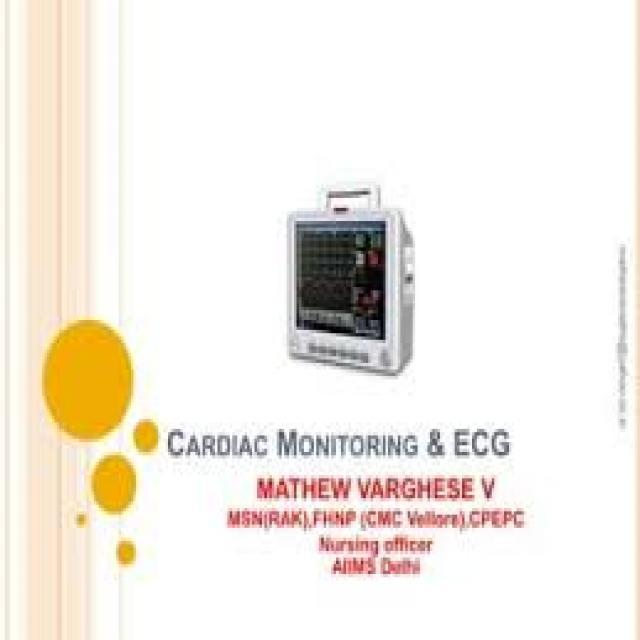cardiac_monitor: (292, 213, 399, 361)
